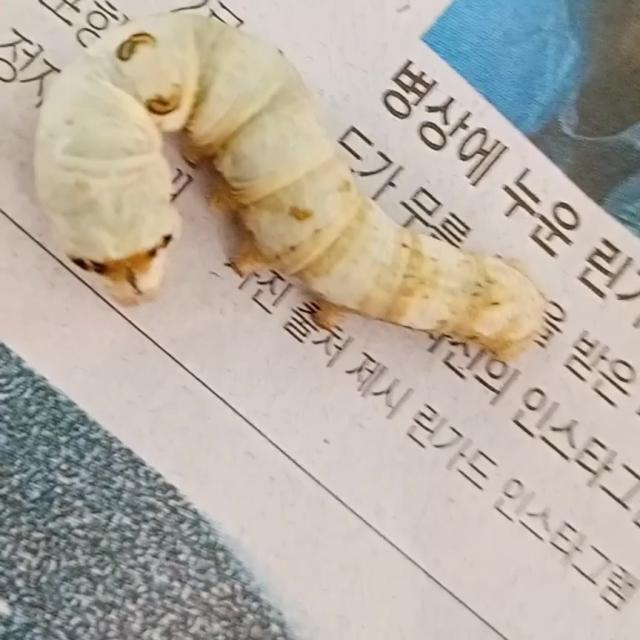Grasserie: (23, 0, 560, 387)
